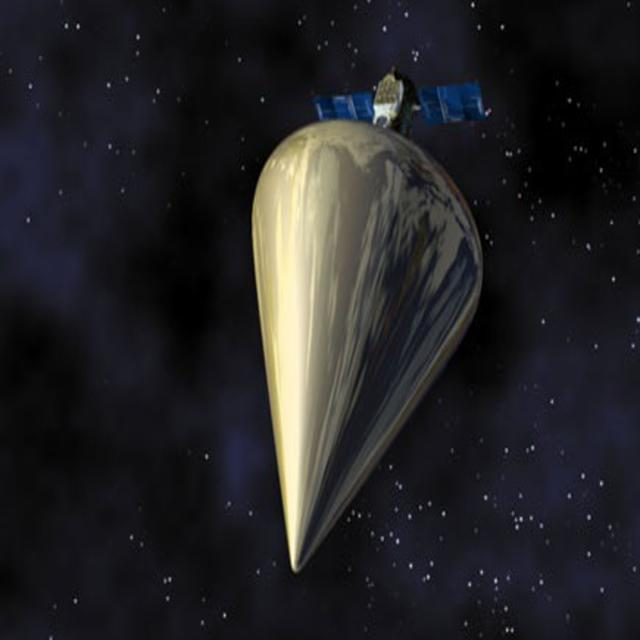medium_debris: (238, 58, 504, 586)
